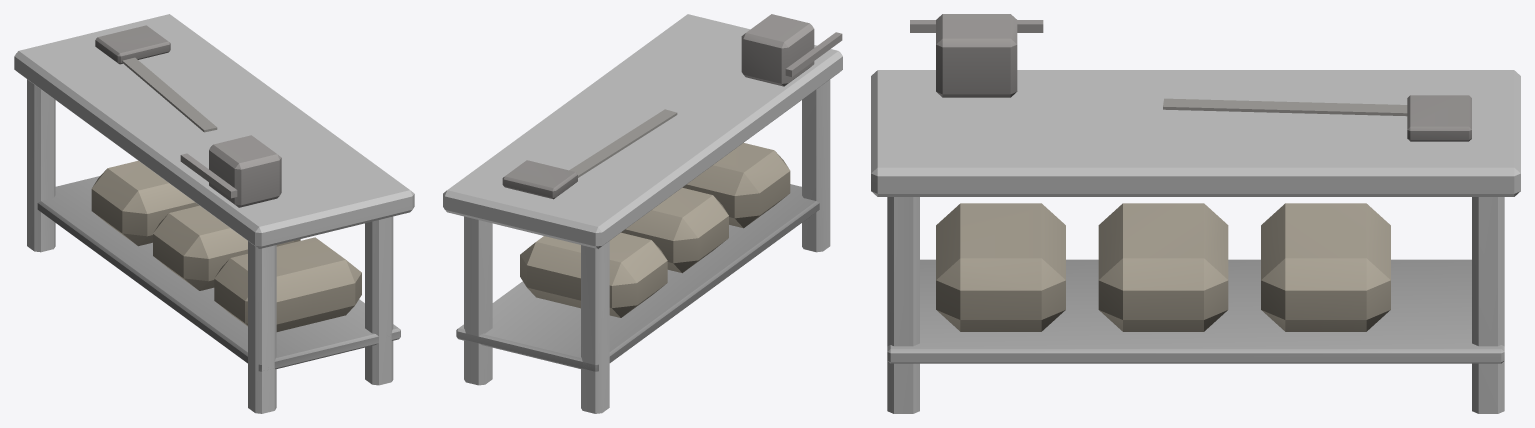
File: forge_workbench.glb
3 views of the same model, side by side, from view 1: azimuth 30°, elevation 25°; view 2: azimuth 150°, elevation 25°; view 3: azimuth 270°, elevation 25° (orthographic). The views are drawn at different scales.
Visible parts, largest first — view 1: bench_leg; view 2: bench_leg; view 3: bench_leg.
Boxes of the visible parts, x1,y1,x2,y2 form: bench_leg: (14,14,414,413); bench_leg: (443,14,842,413); bench_leg: (871,14,1520,413).
Size of the model in its own units: 0.805 by 1.06 by 2.
